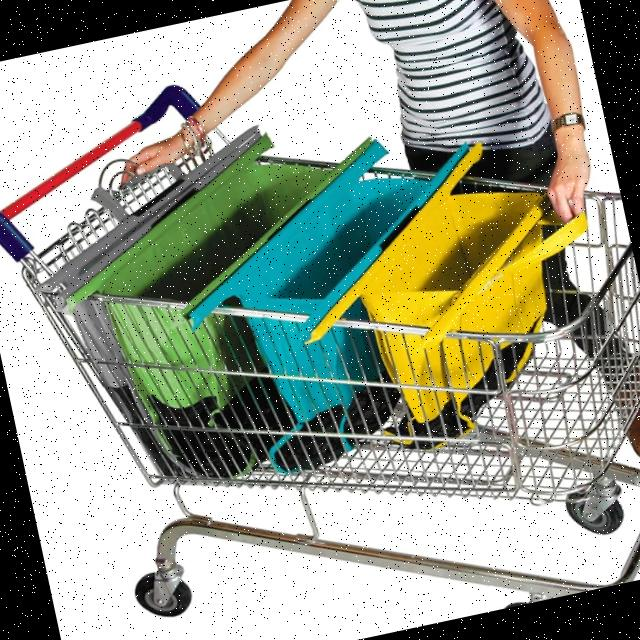Person: (89, 0, 640, 553)
